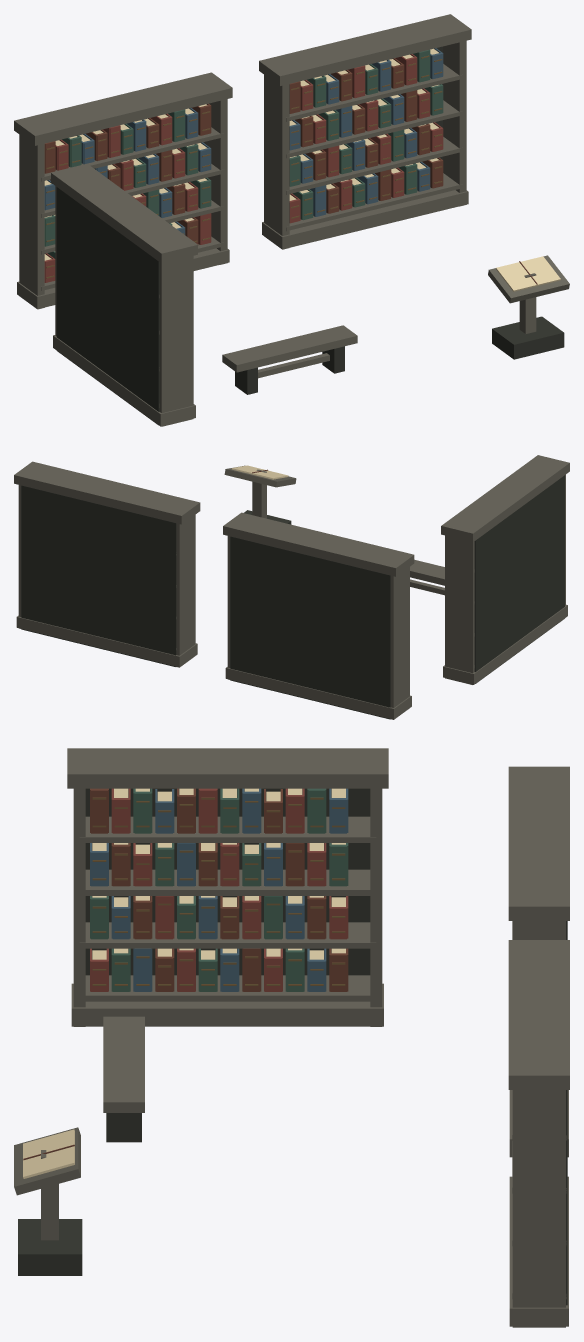
File: village_library_artifacts.glb
3 views of the same model, one above another, from view 1: azimuth 30°, elevation 25°; view 2: azimuth 150°, elevation 25°; view 3: azimuth 270°, elevation 25° (orthographic). The views are drawn at different scales.
Visible parts, largest first — view 1: village_library_artifacts; view 2: village_library_artifacts; view 3: village_library_artifacts.
Part boxes in pixels (x1,y1,x2,y2): village_library_artifacts: [14, 14, 569, 426]; village_library_artifacts: [14, 455, 569, 719]; village_library_artifacts: [14, 748, 569, 1327].
Bounding box in the file's own units: 7.84 × 2.84 × 5.62.
